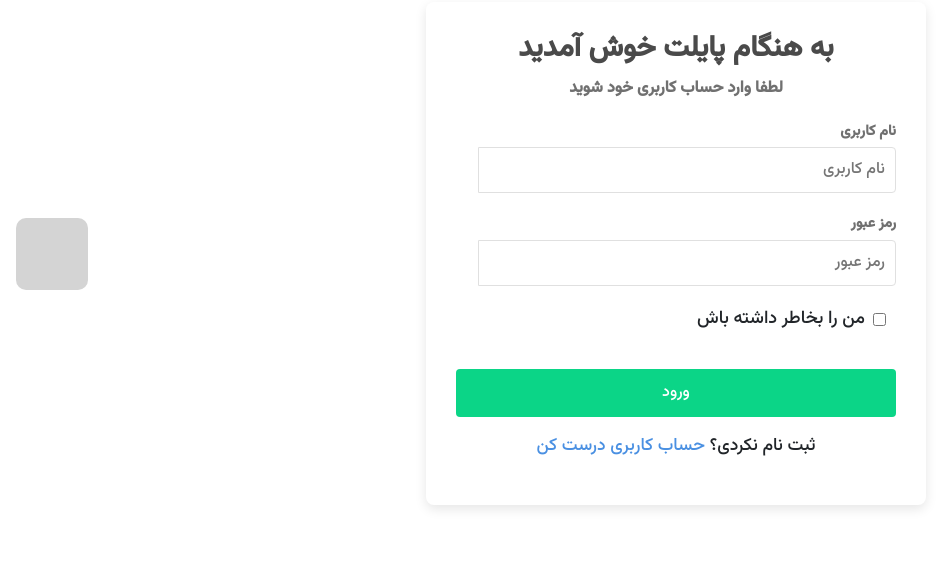
Scenario: LoginPage › handles API errors and displays the error message
This screenshot has width=944, height=570.
In the field labelled "نام کاربری": (687, 170) top-left (478, 147), bottom-right (896, 193), type "newUser"
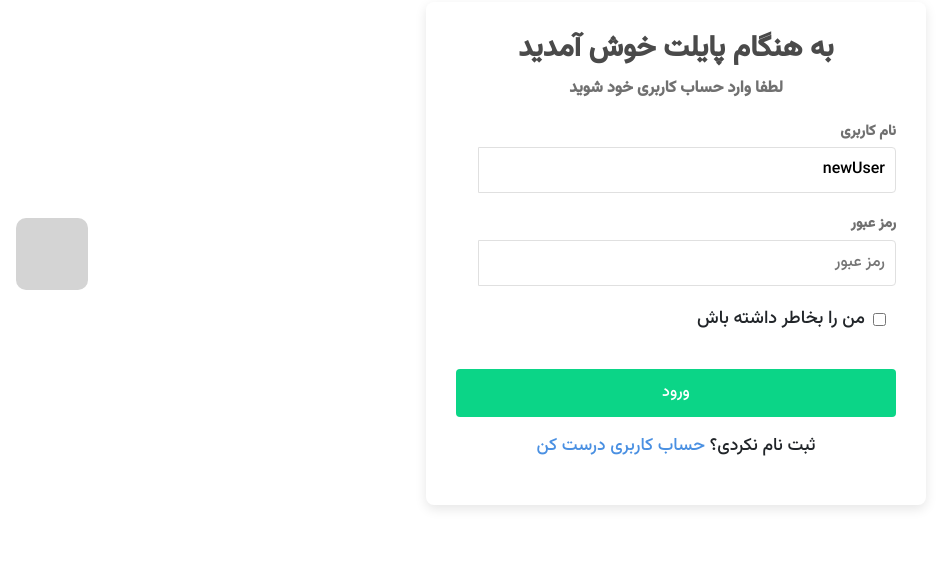
In the password field labelled "رمز عبور": (687, 263) top-left (478, 240), bottom-right (896, 286), type "Password123!"
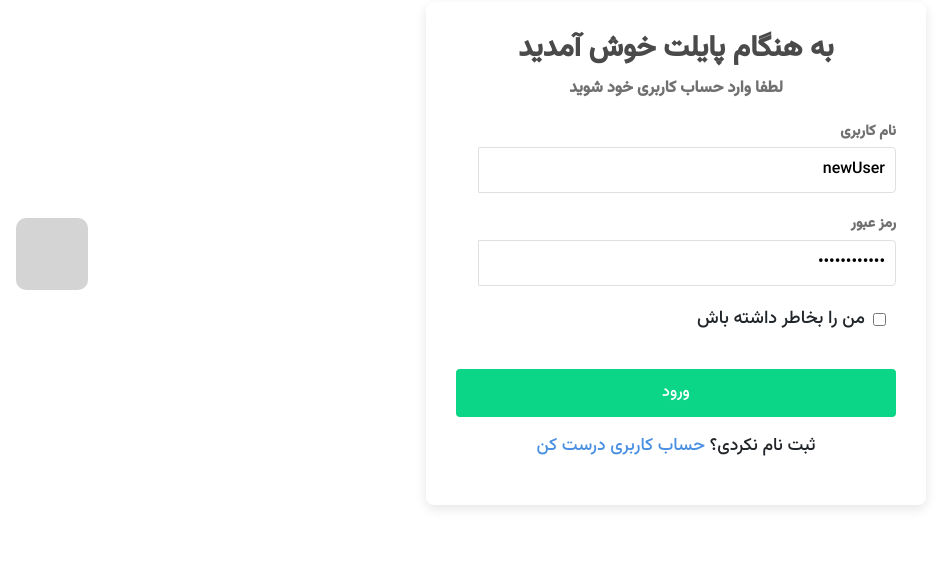
Click the button "ورود": (676, 393) top-left (456, 369), bottom-right (896, 417)
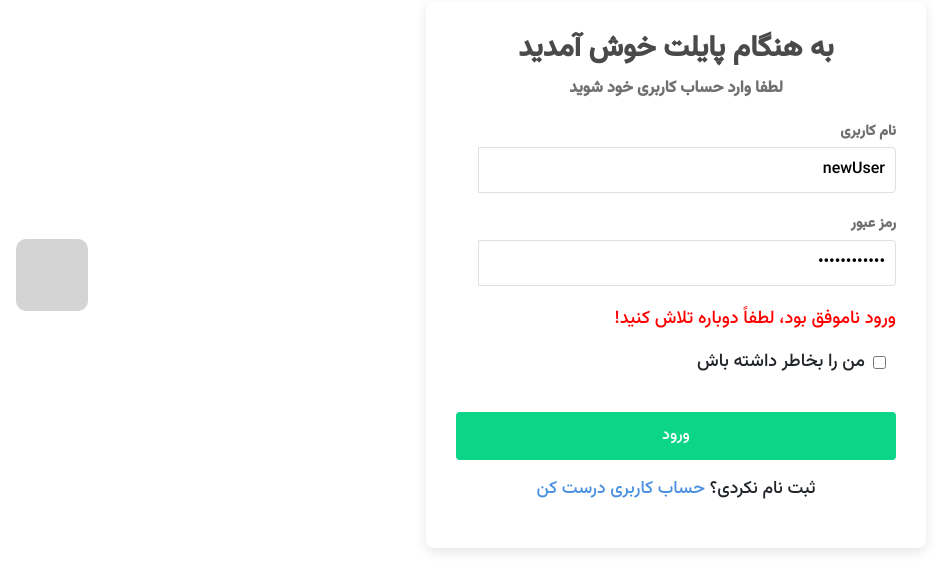
Check: the text "ورود ناموفق بود، لطفاً دوباره تلاش کنید!" is shown, box top-left (614, 305), bottom-right (896, 333)
